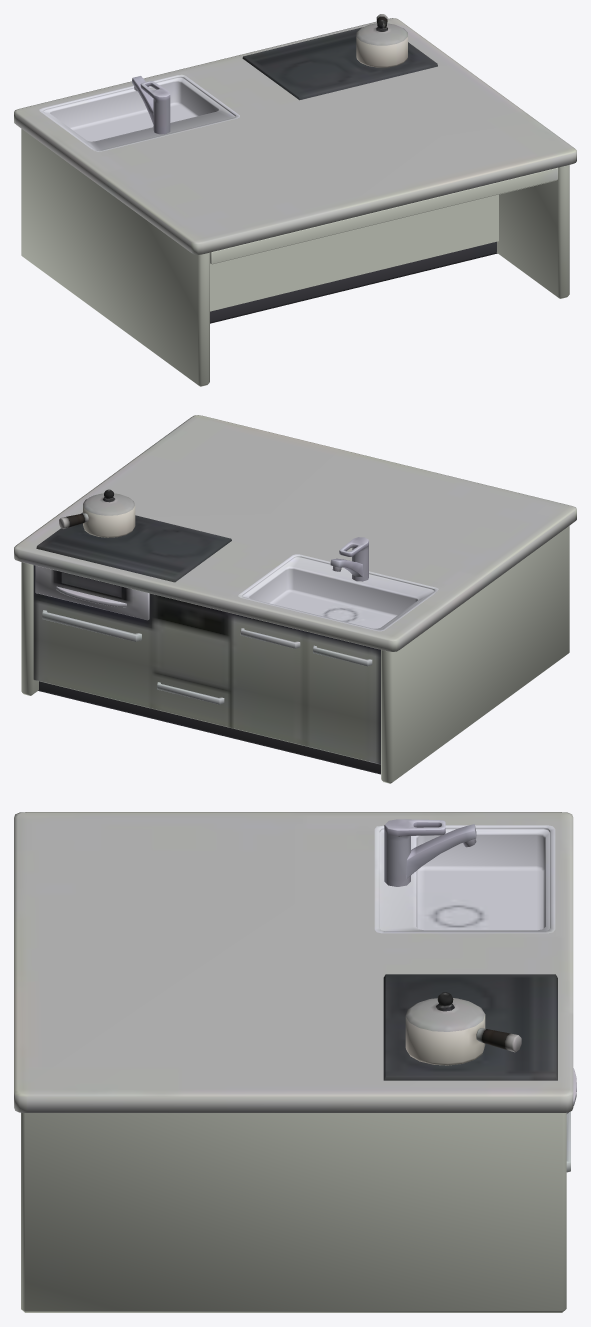
3 views of the same model, one above another, from view 1: azimuth 30°, elevation 25°; view 2: azimuth 150°, elevation 25°; view 3: azimuth 270°, elevation 25° (orthographic). The views are drawn at different scales.
Size of the model in its own units: 19.1 by 8.91 by 15.96.
Materials: 1 (1 with a texture image).
